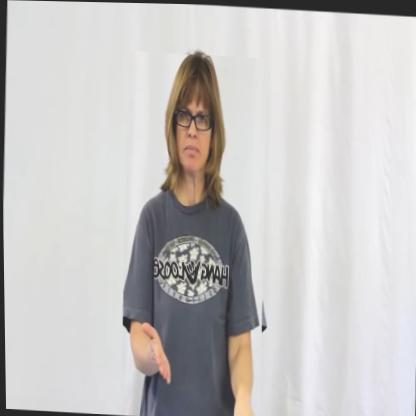Expensive: (115, 50, 271, 416)
